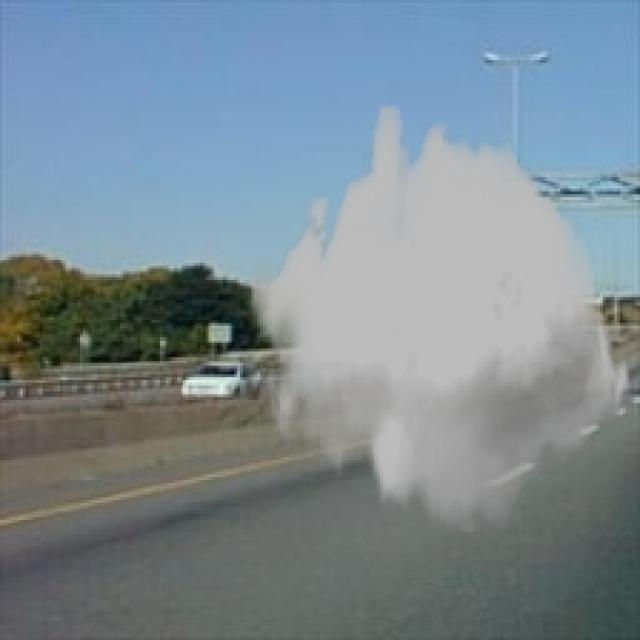smoke: (248, 106, 632, 531)
